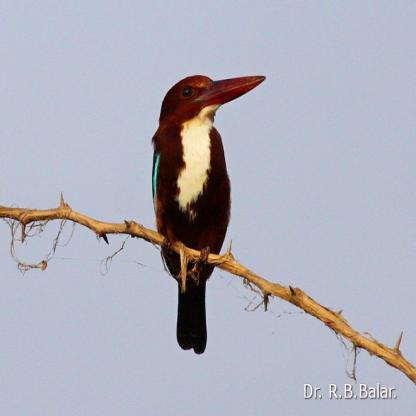Burung: (150, 74, 265, 353)
